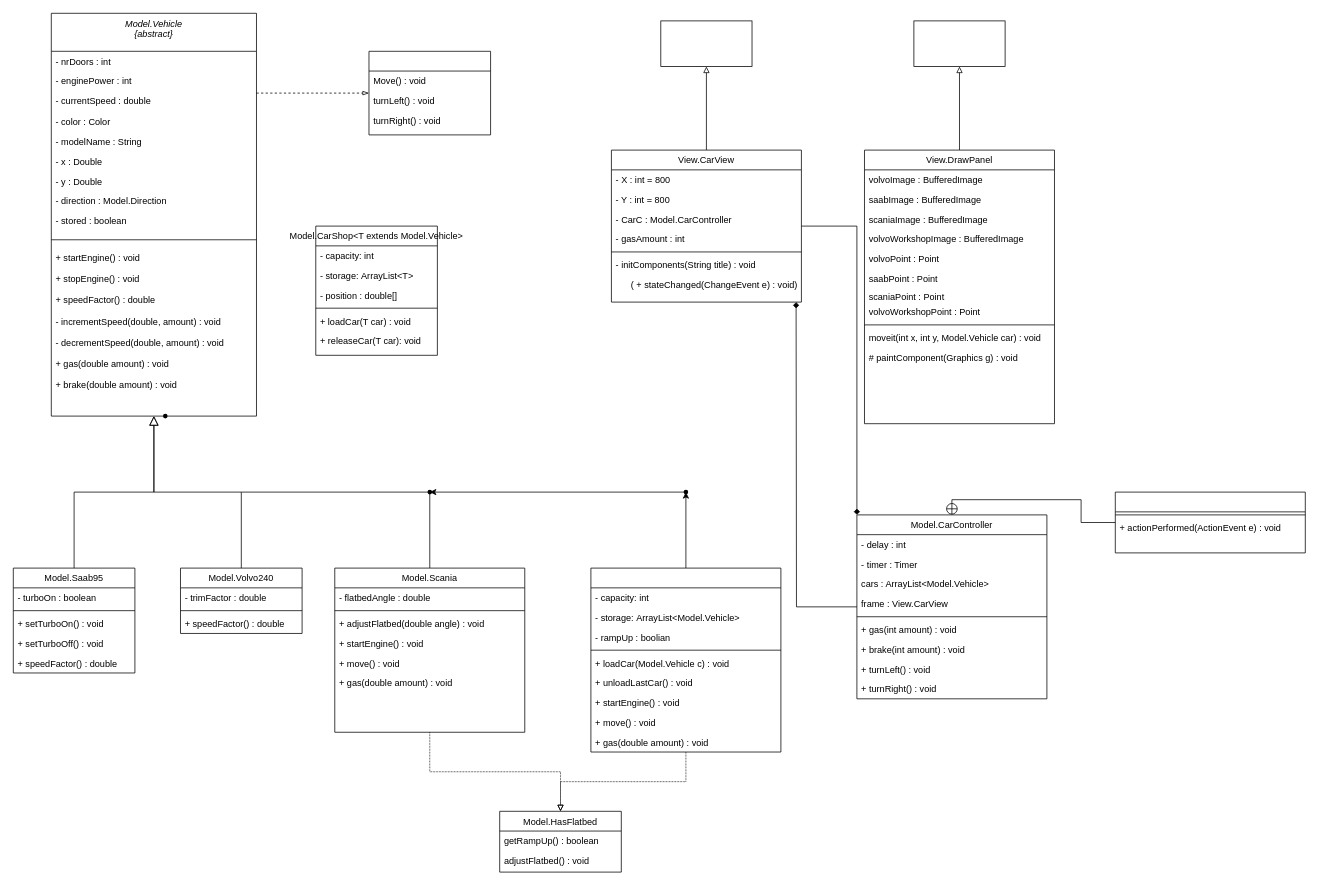
Some shapes in this 1319 by 886 pixel diagram are drawn without their labels. Here are the shapes that lost their labels. From the top down, the box of each, then its label:
(660, 20, 752, 66): JFrame
(913, 20, 1005, 66): JPanel
(368, 51, 491, 135): Model.Movable
(1115, 491, 1305, 553): TimerListener
(590, 567, 781, 752): Model.VehicleTransport
